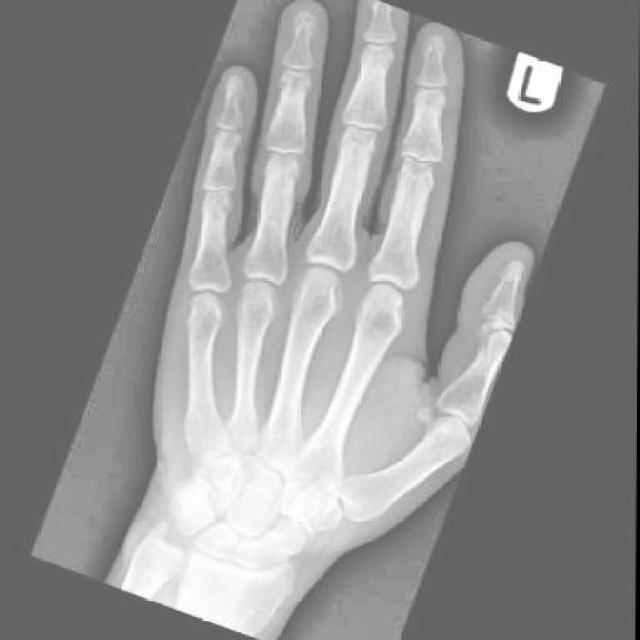Fracture: (167, 480, 207, 522)
